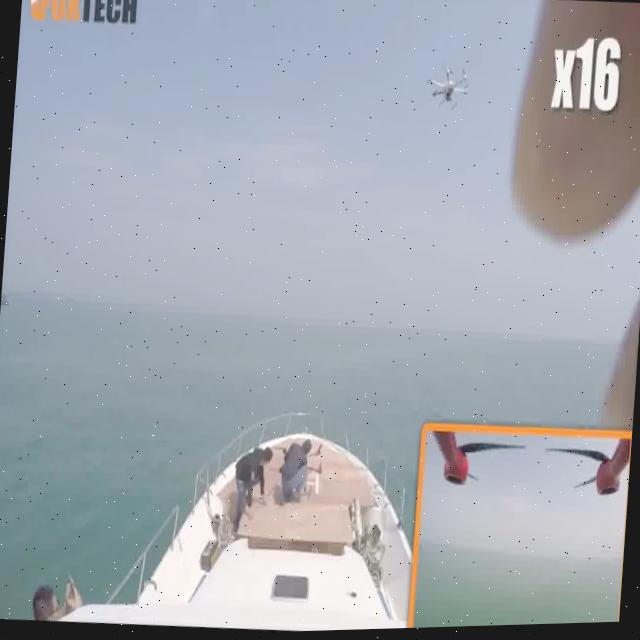drone: (423, 62, 470, 114)
